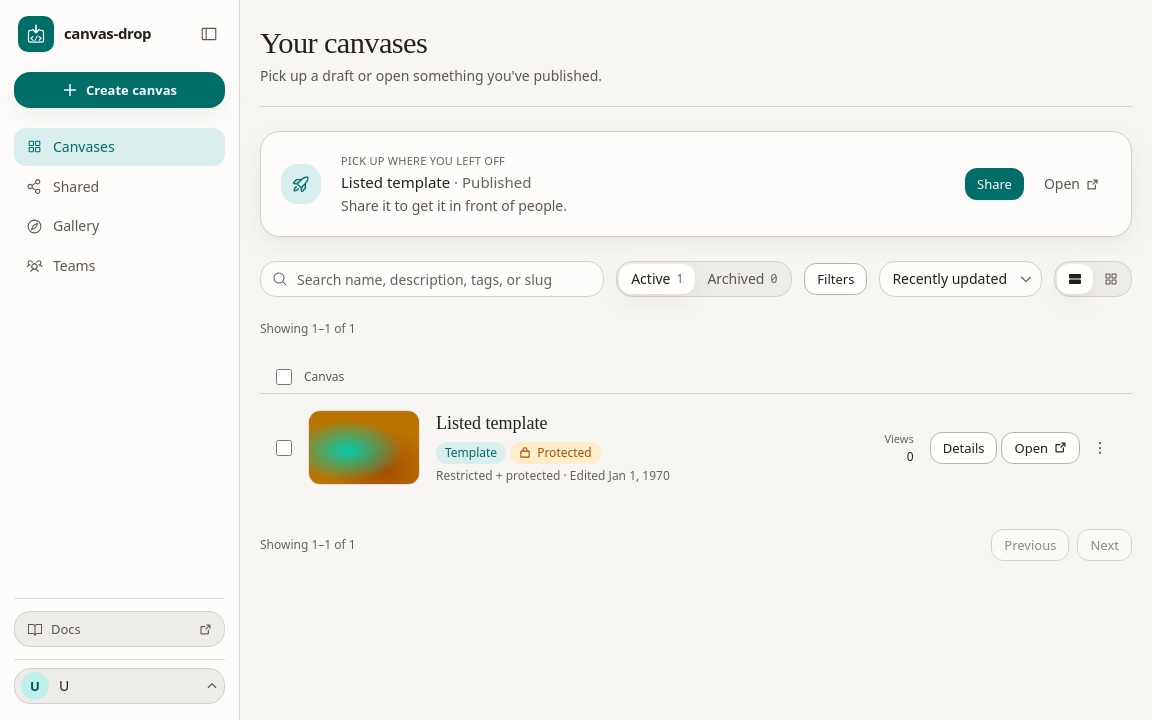
Test: Your canvases — server-side filters (plan 005) › preserves concept colours on filter chips and row badges
Click the button "Filters": [836, 279] box [804,263,867,295]
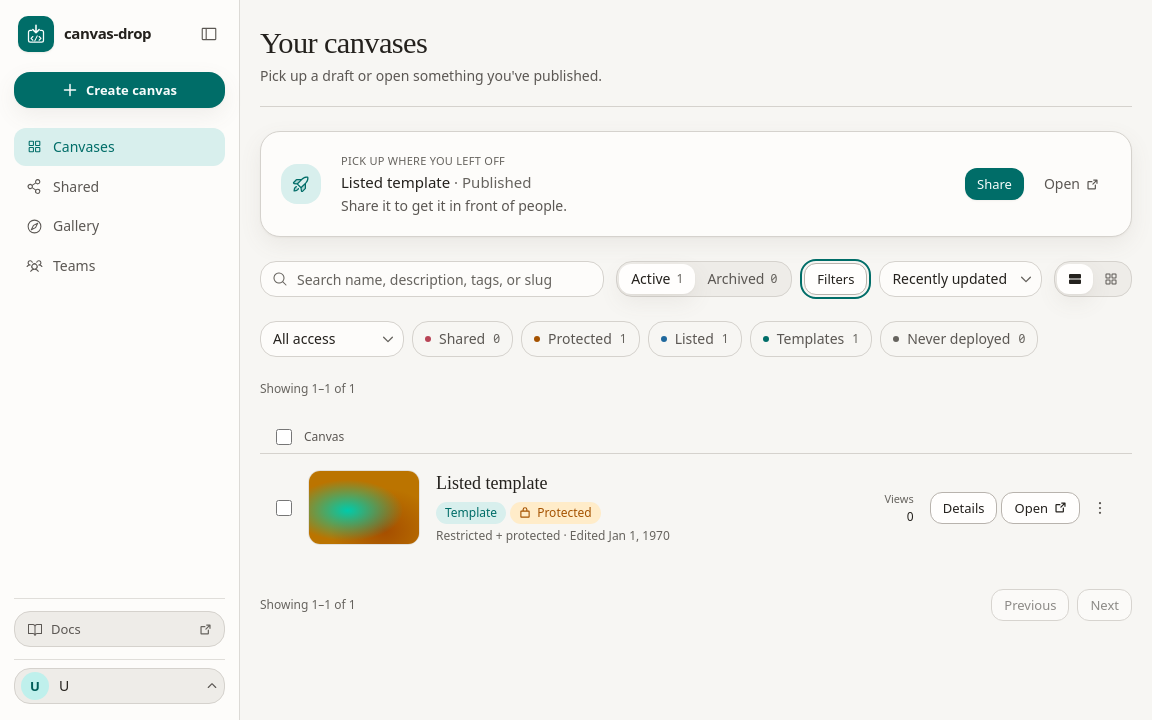
expect the element showing "Protected" is shown: met, box [510,502,601,524]
expect the button "Listed 1" is shown: met, box [648,321,742,357]
